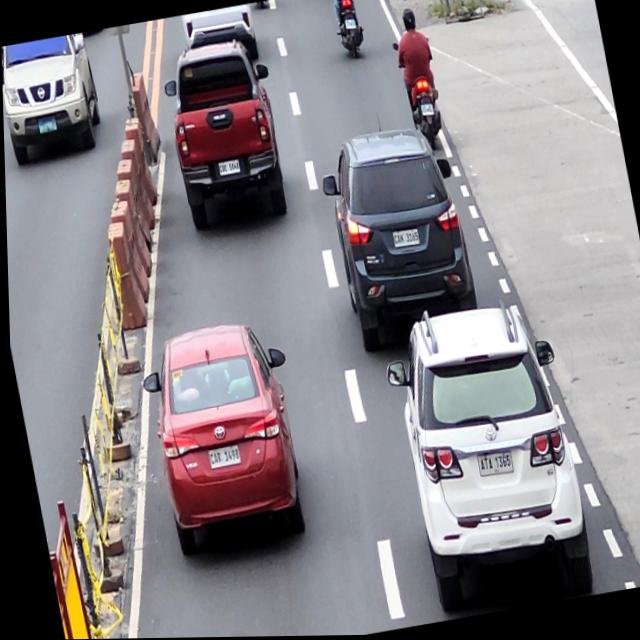Car: (374, 294, 594, 615), (134, 316, 316, 564), (309, 119, 480, 349), (157, 36, 293, 237), (179, 4, 261, 71)
License-Plate: (474, 451, 512, 481), (203, 444, 240, 469), (390, 230, 419, 250), (215, 159, 241, 176), (419, 103, 435, 119), (345, 19, 357, 31)
Motorcycle: (391, 36, 448, 155), (329, 0, 368, 60)
